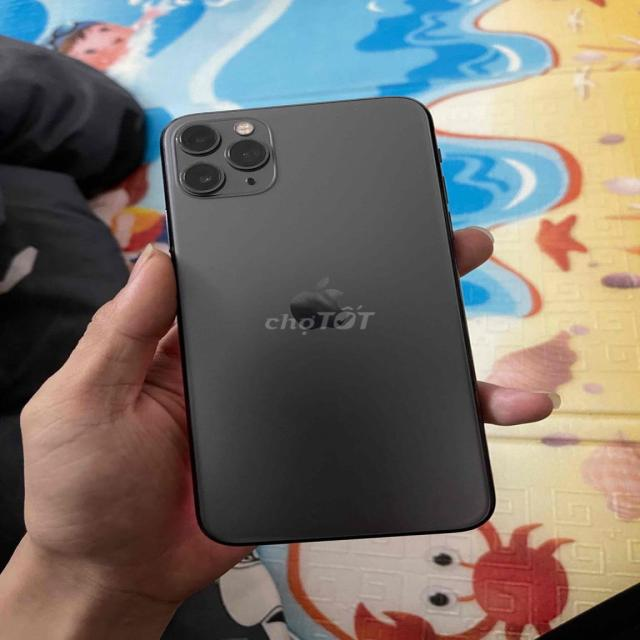gen_11: (161, 97, 493, 545)
